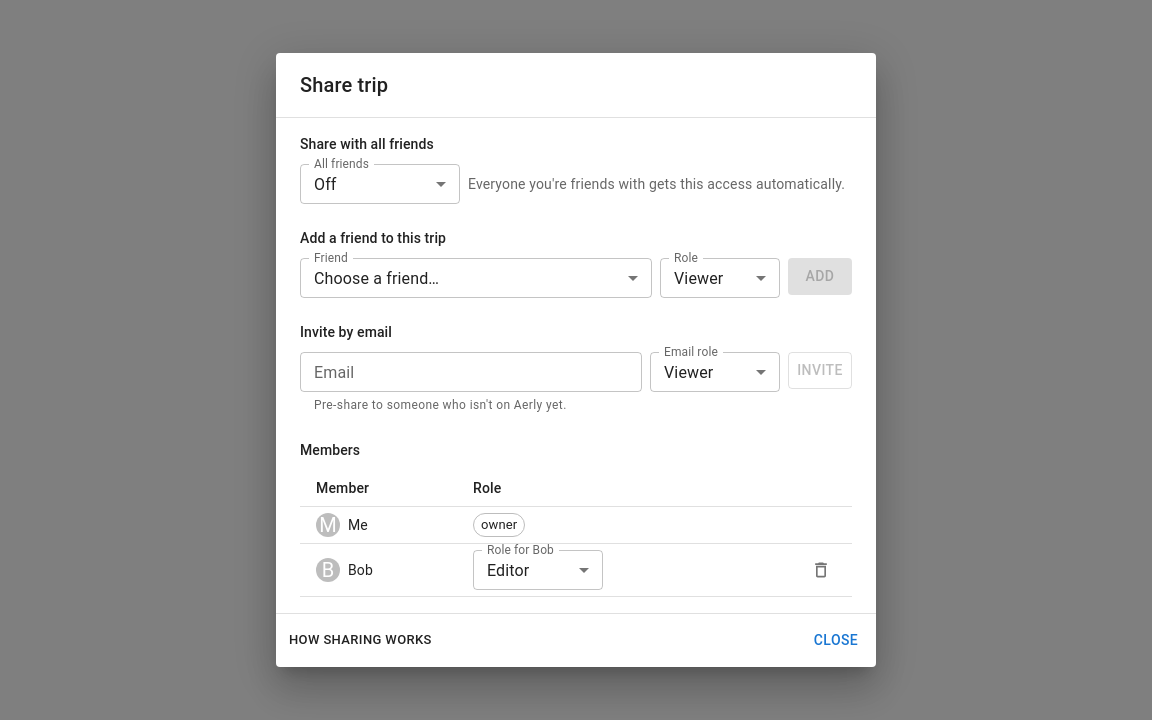
Scenario: TripMembersDialog › excludes existing members from the friend picker
Click the dropdown labelled "friend" at [377, 278], box [314, 269, 439, 288]
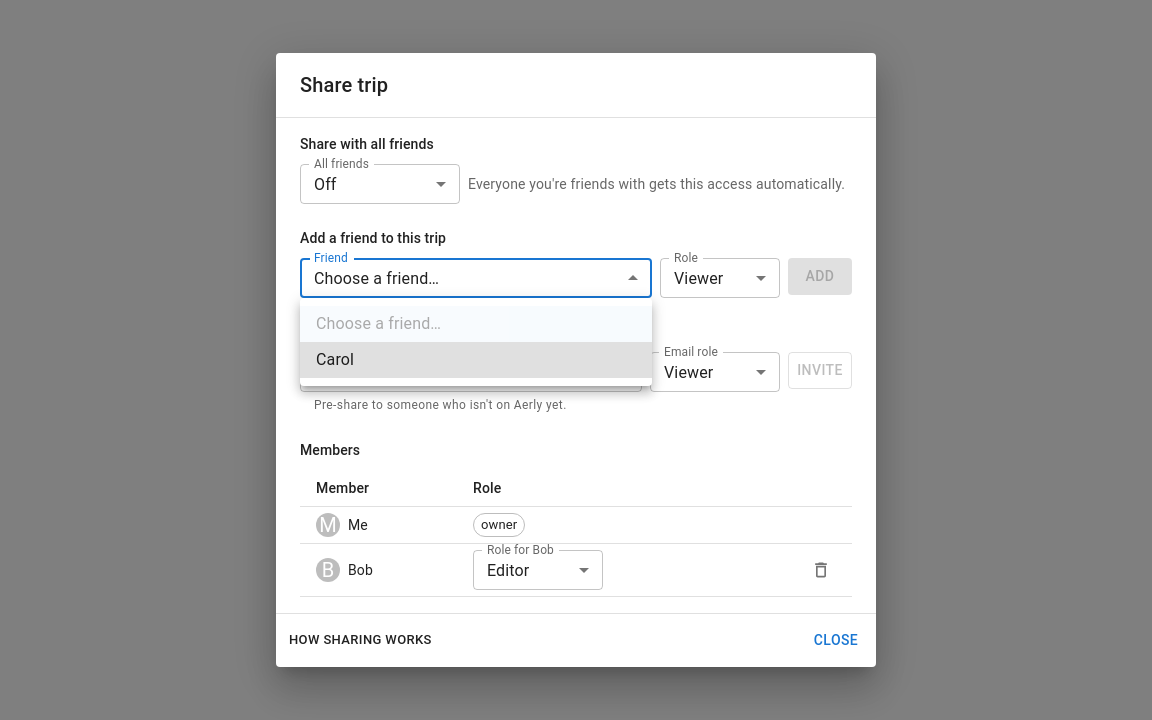
Now the option "Carol" is shown, box [300, 342, 652, 378]
